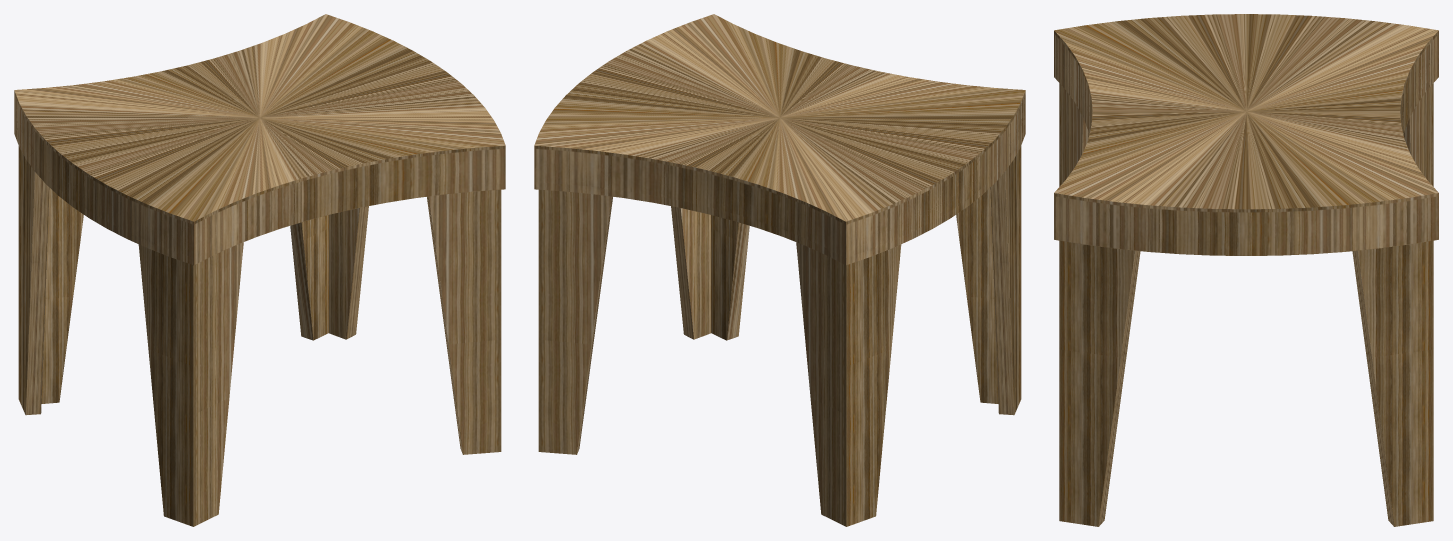
File: jigsaw_coffeetable.gltf
3 renders of one model, left to right at view 1: azimuth 30°, elevation 25°; view 2: azimuth 150°, elevation 25°; view 3: azimuth 270°, elevation 25°, orthographic. The views are drawn at different scales.
Parts seen in each view (by area): view 1: Mesh2; view 2: Mesh2; view 3: Mesh2.
Part boxes in pixels (box(x1,y1,x2,y2)): Mesh2: box(14, 14, 505, 526); Mesh2: box(534, 14, 1025, 526); Mesh2: box(1054, 14, 1438, 526).
Size of the model in its own units: 0.55 by 0.4322 by 0.458.
1 material, 1 textured.
